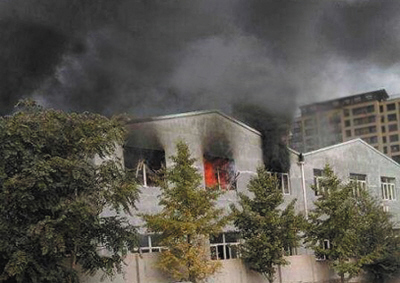fire: (196, 147, 244, 188)
smoke: (12, 4, 400, 96)
